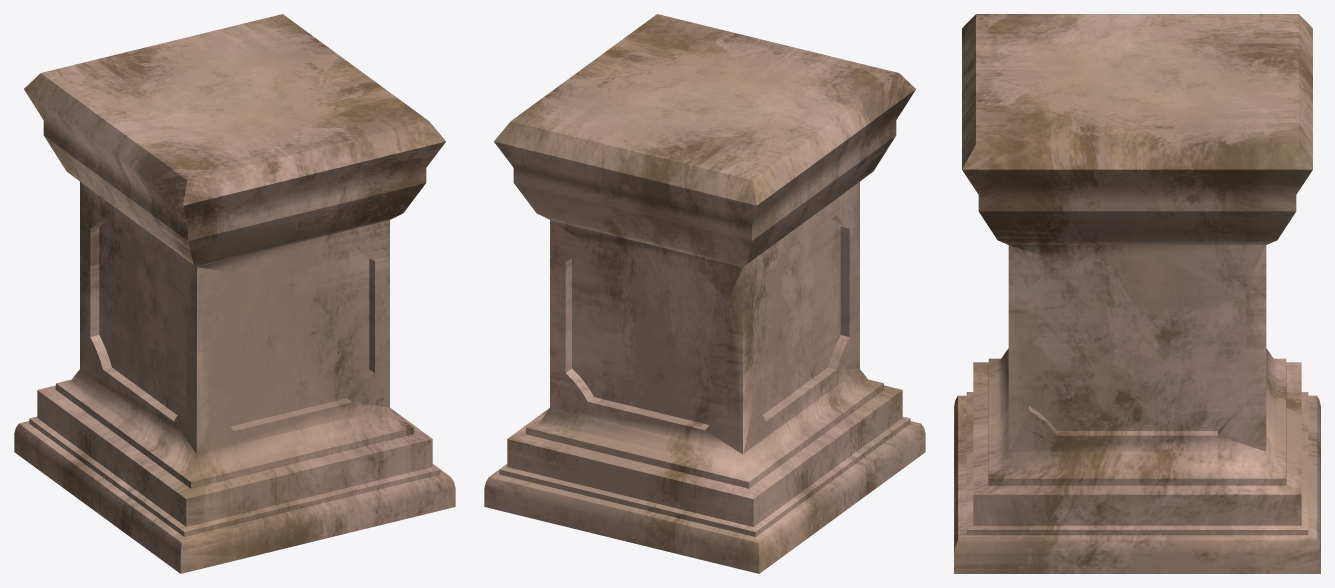
File: plinth.fbx
3 renders of one model, left to right at view 1: azimuth 30°, elevation 25°; view 2: azimuth 150°, elevation 25°; view 3: azimuth 270°, elevation 25°, orthographic. The views are drawn at different scales.
Parts seen in each view (by area): view 1: Plinth; view 2: Plinth; view 3: Plinth.
Part boxes in pixels (box(x1,y1,x2,y2)): Plinth: box(14, 14, 455, 573); Plinth: box(484, 14, 925, 573); Plinth: box(954, 14, 1320, 573).
Size of the model in its own units: 32.98 by 43.81 by 34.59.
